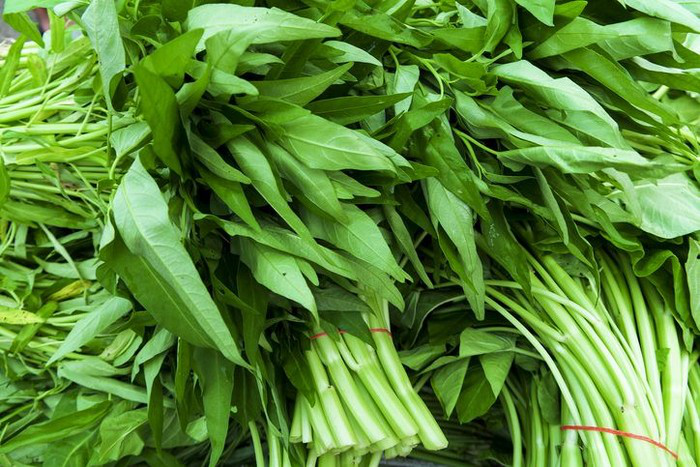Kangkung: (76, 41, 434, 365)
